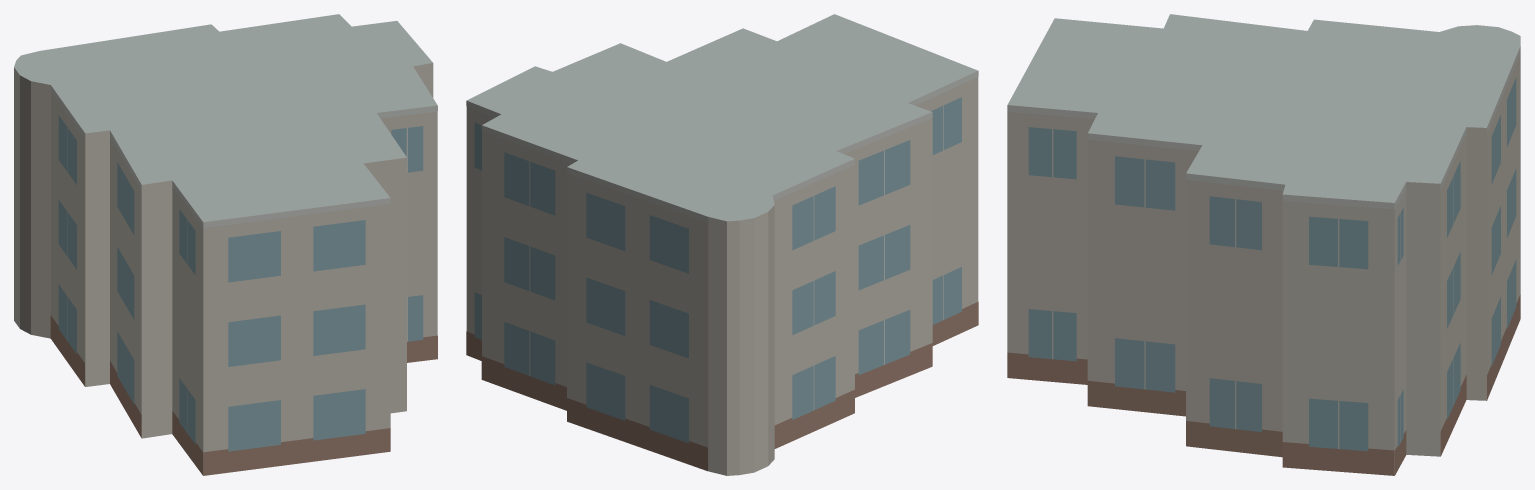
File: survey-upis-32472397.glb
3 renders of one model, left to right at view 1: azimuth 30°, elevation 25°; view 2: azimuth 150°, elevation 25°; view 3: azimuth 270°, elevation 25°, orthographic. The views are drawn at different scales.
Parts seen in each view (by area): view 1: survey-upis-32472397.tmp; view 2: survey-upis-32472397.tmp; view 3: survey-upis-32472397.tmp.
Boxes of the visible parts, bbox=[...] form: survey-upis-32472397.tmp: bbox=[14, 14, 437, 475]; survey-upis-32472397.tmp: bbox=[466, 14, 978, 475]; survey-upis-32472397.tmp: bbox=[1007, 14, 1520, 475].
Bounding box in the file's own units: 15.53 × 10.45 × 17.82.
